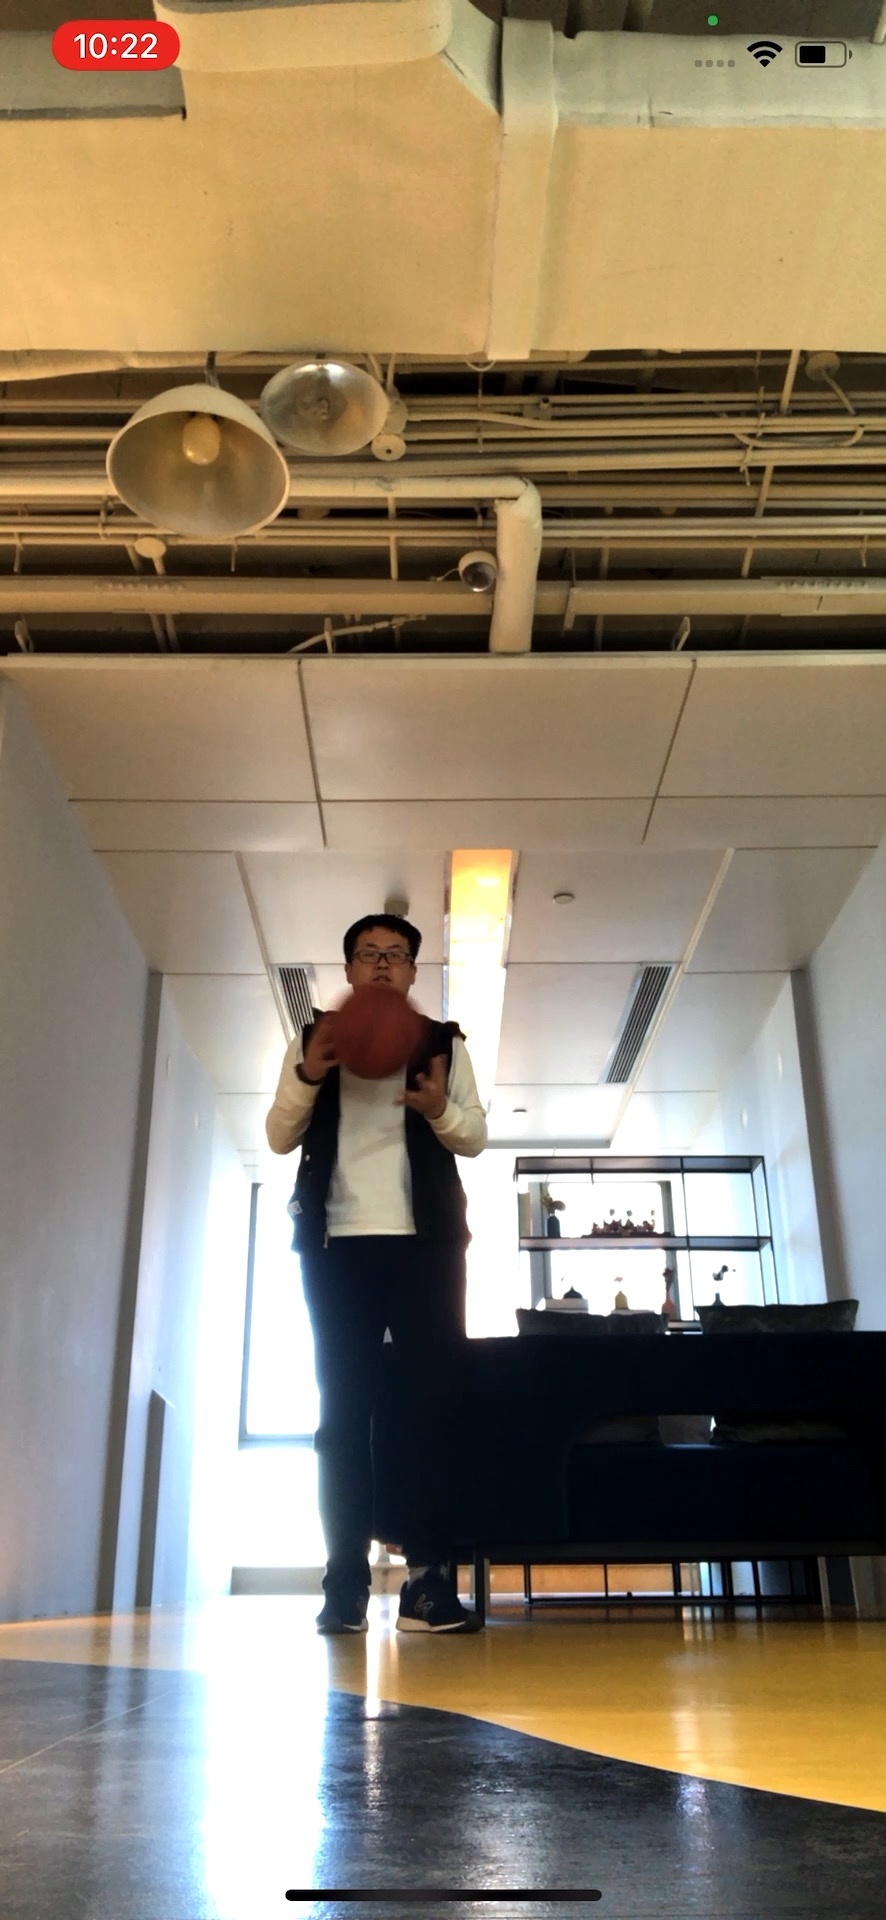ball: (330, 982, 421, 1080)
